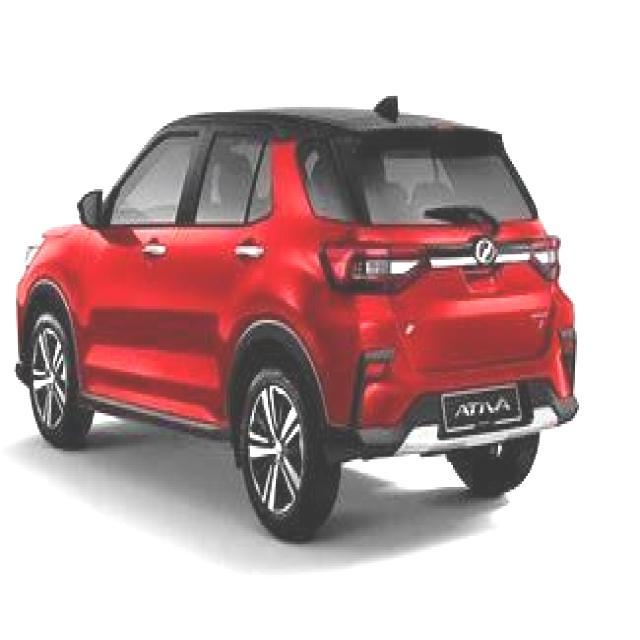PeroduaAtiva: (13, 94, 580, 542)
